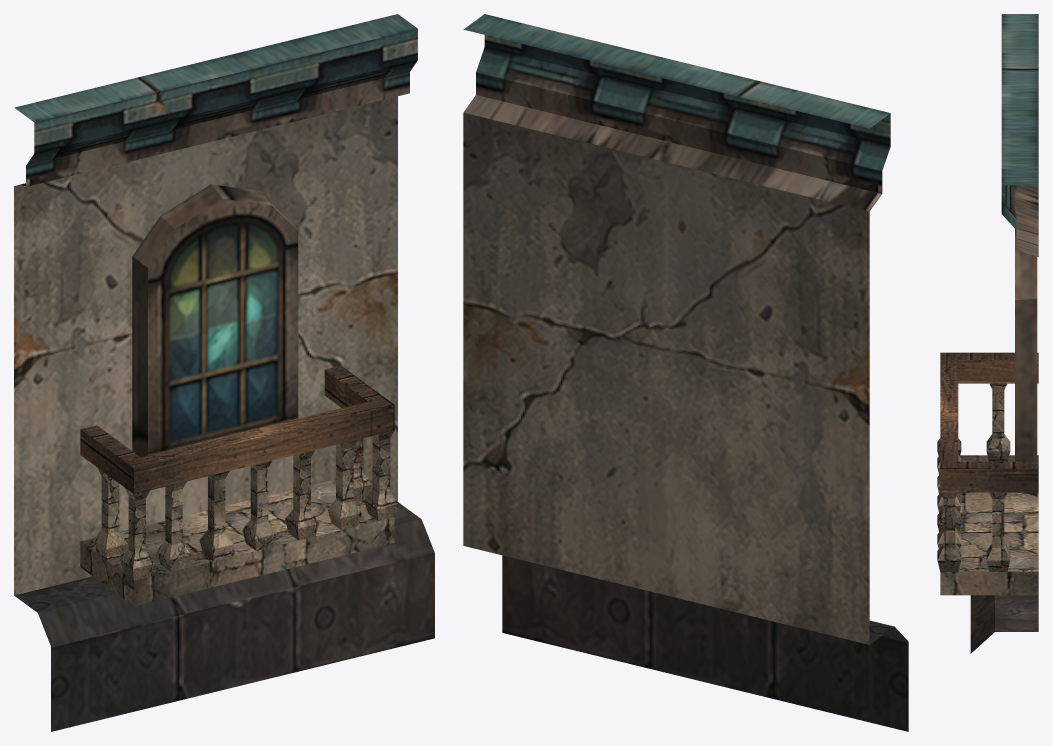
Rendered from wall_concrete_5.fbx.
3 views of the same model, side by side, from view 1: azimuth 30°, elevation 25°; view 2: azimuth 150°, elevation 25°; view 3: azimuth 270°, elevation 25° (orthographic). The views are drawn at different scales.
Visible parts, largest first — view 1: wall_concrete_5; view 2: wall_concrete_5; view 3: wall_concrete_5.
Part boxes in pixels (x1=…): wall_concrete_5: x1=14, y1=14, x2=434, y2=731; wall_concrete_5: x1=463, y1=14, x2=908, y2=731; wall_concrete_5: x1=937, y1=14, x2=1038, y2=653.
Size of the model in its own units: 3 by 4.46 by 0.7473.
